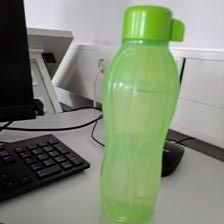bottle: (94, 4, 188, 224)
